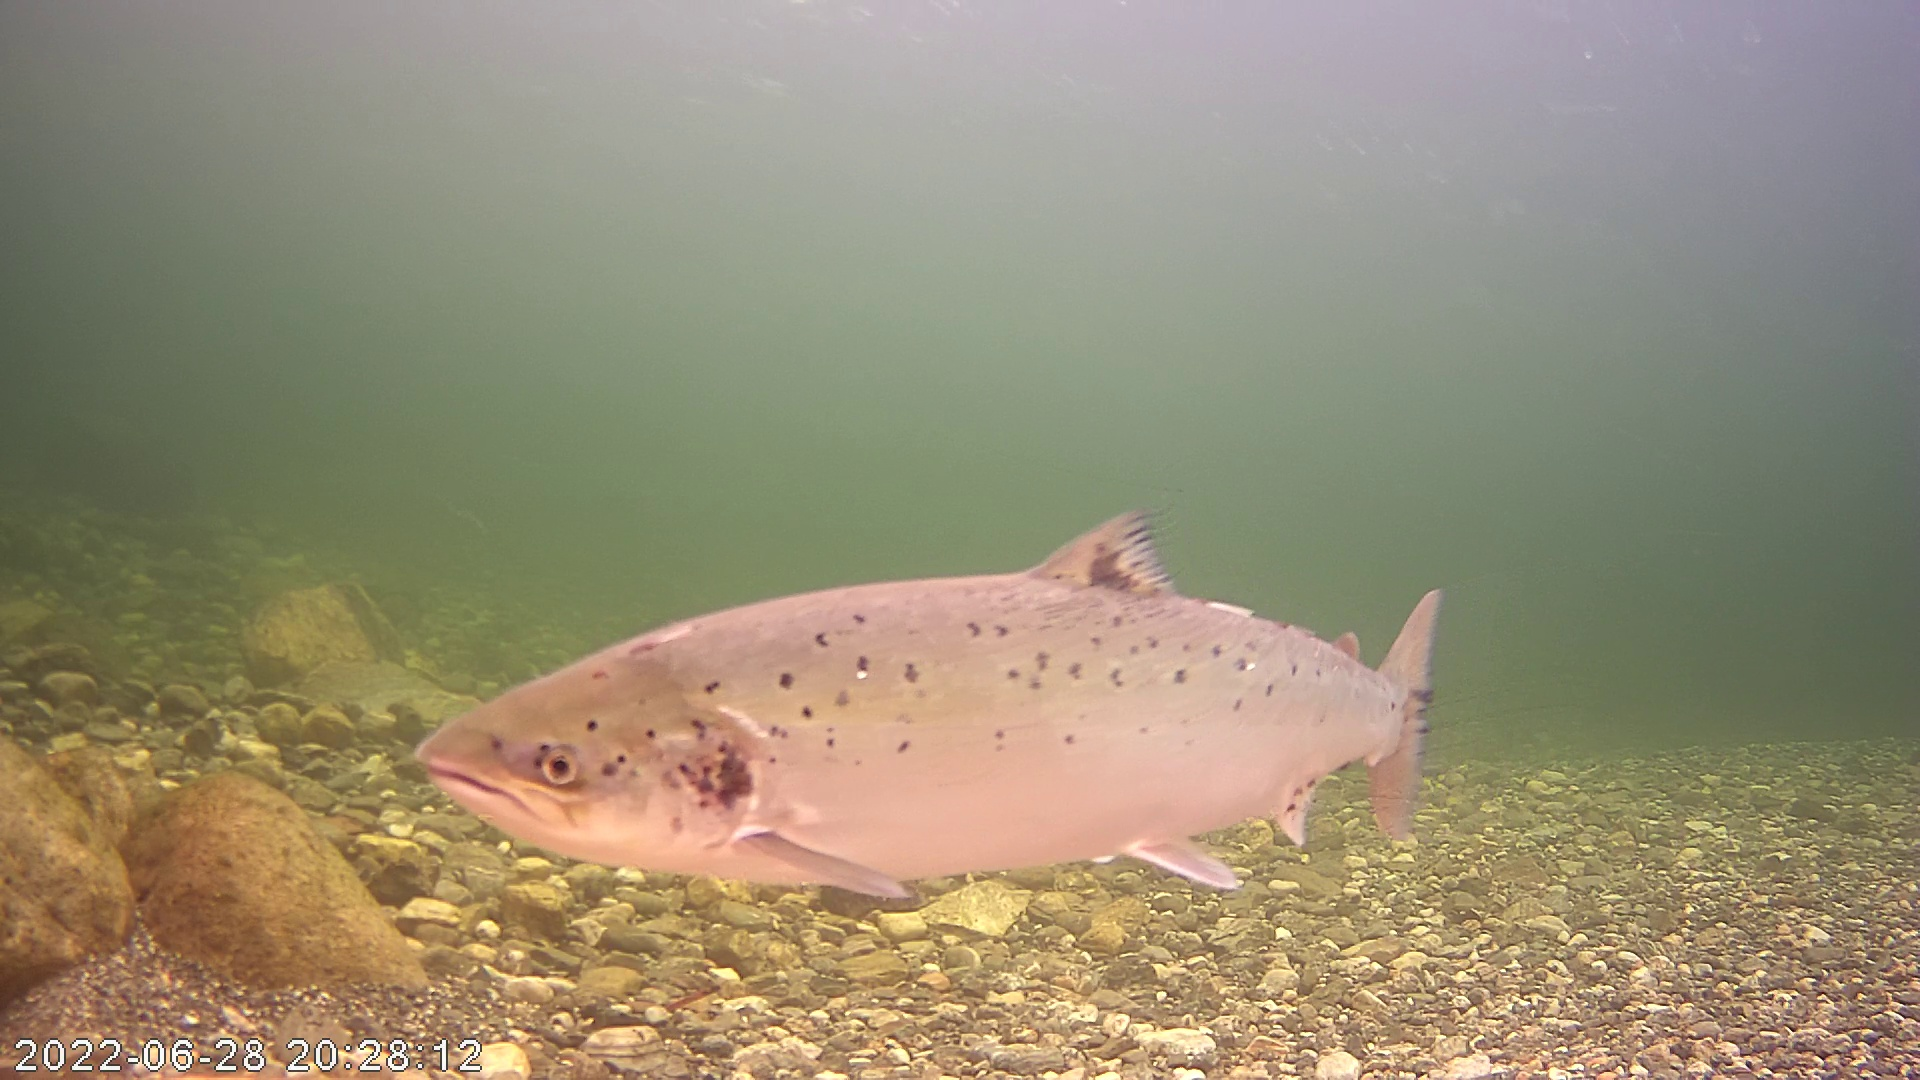salmon: (386, 488, 1444, 916)
